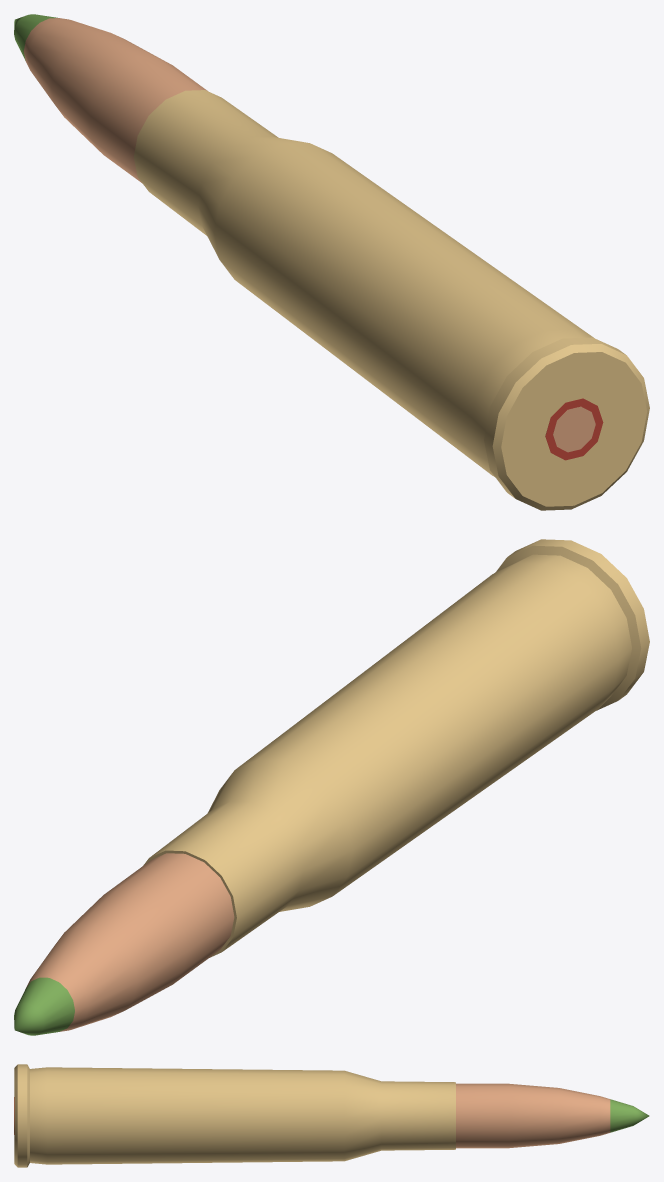
Rendered from round_762r_tracer.glb.
3 renders of one model, top to bottom at view 1: azimuth 30°, elevation 25°; view 2: azimuth 150°, elevation 25°; view 3: azimuth 270°, elevation 25°, orthographic. The views are drawn at different scales.
Visible parts, largest first — view 1: body; view 2: body; view 3: body.
Part boxes in pixels (<box>): body: <box>14,14,649,510</box>; body: <box>14,539,649,1035</box>; body: <box>14,1064,649,1167</box>.
Size of the model in its own units: 0.0125 by 0.0125 by 0.077.
